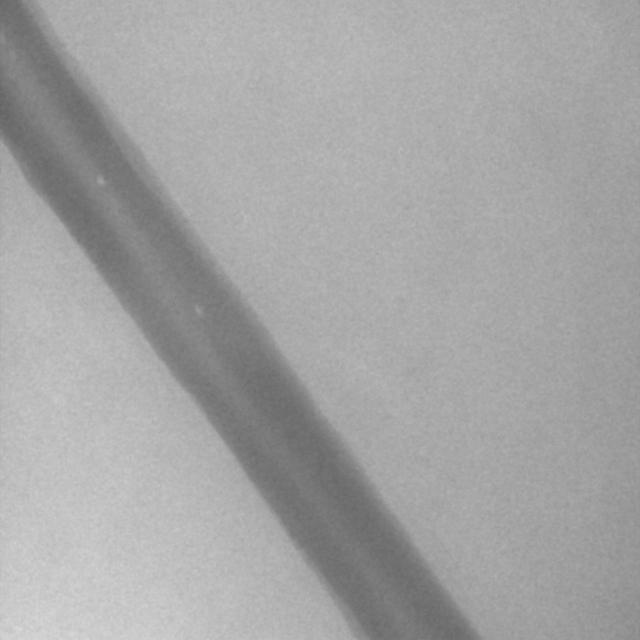air hole: (193, 302, 205, 318), (95, 173, 107, 186)
